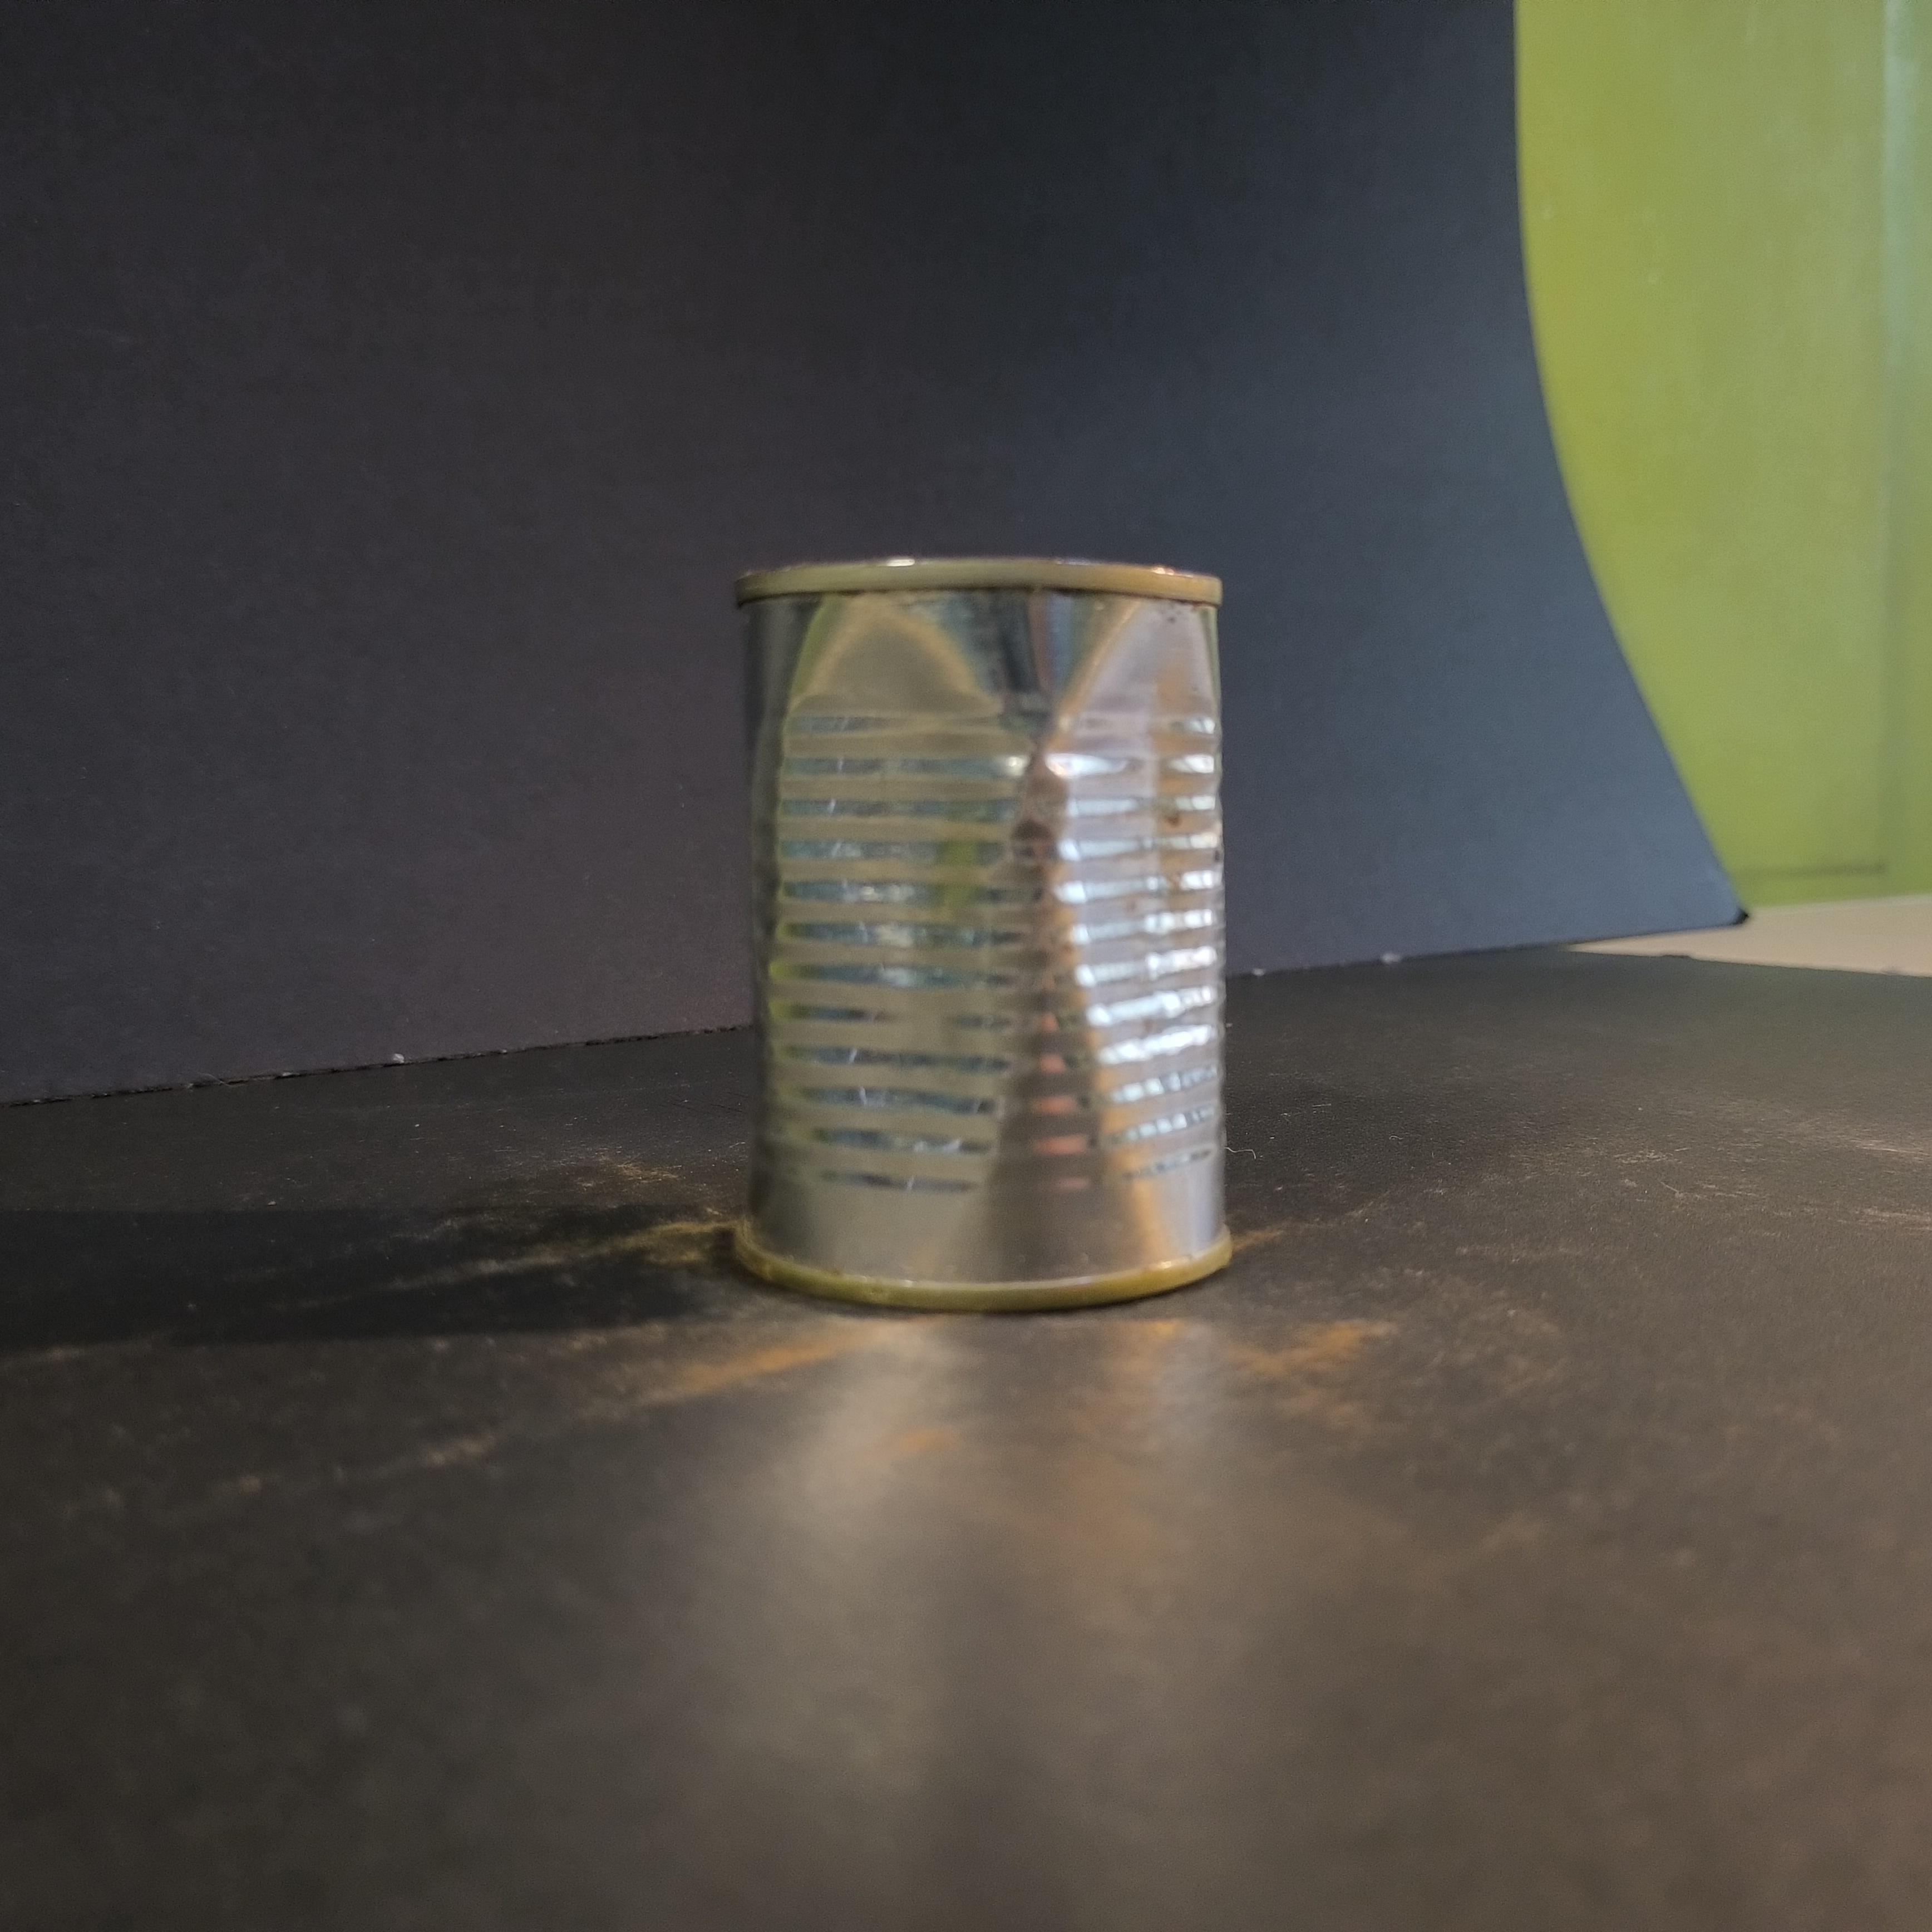Dented: (709, 520, 1267, 1366)
